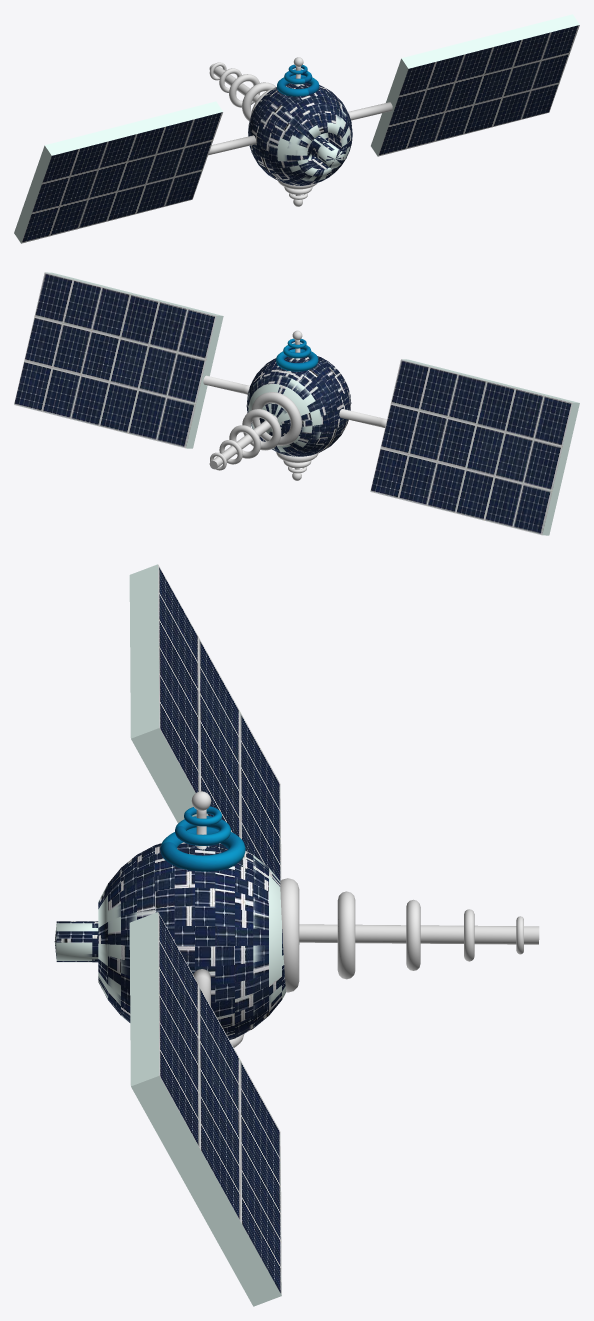
Rendered from spangles.gltf.
3 views of the same model, one above another, from view 1: azimuth 30°, elevation 25°; view 2: azimuth 150°, elevation 25°; view 3: azimuth 270°, elevation 25° (orthographic). The views are drawn at different scales.
Parts seen in each view (by area): view 1: Cube.001, Cube.002, Sphere, Torus.002, Cylinder.001, Torus.008, Cylinder, Torus.009, Cylinder.002; view 2: Cube.001, Cube.002, Sphere, Torus.007, Torus.008, Cylinder.002, Torus.002, Torus.009, Cylinder.001, Cylinder; view 3: Cube.002, Cube.001, Sphere, Cylinder.002, Torus.002, Torus.007, Torus.008, Torus.009, Torus.001.
Part boxes in pixels (x1,y1,x2,y2): Cube.001: (14, 101, 222, 243); Cube.002: (371, 14, 579, 156); Sphere: (248, 83, 352, 185); Torus.002: (277, 75, 319, 96); Cylinder.001: (208, 135, 255, 155); Torus.008: (242, 82, 275, 121); Cylinder: (348, 102, 392, 120); Torus.009: (229, 74, 260, 107); Cylinder.002: (209, 63, 259, 102); Cube.001: (370, 359, 579, 535); Cube.002: (14, 272, 223, 448); Sphere: (246, 356, 351, 456); Torus.007: (251, 392, 301, 445); Torus.008: (242, 409, 281, 450); Cylinder.002: (209, 416, 277, 469); Torus.002: (276, 349, 318, 371); Torus.009: (229, 425, 260, 458); Cylinder.001: (339, 409, 386, 427); Cylinder: (203, 375, 249, 394); Cube.002: (129, 912, 281, 1306); Cube.001: (129, 564, 281, 881); Sphere: (54, 842, 299, 1039); Cylinder.002: (299, 924, 539, 944); Torus.002: (160, 827, 245, 871); Torus.007: (280, 878, 299, 992); Torus.008: (337, 891, 355, 979); Torus.009: (406, 899, 420, 970); Torus.001: (175, 816, 230, 845).
Bounding box in the file's own units: 16.82 × 4.53 × 6.68.
20 materials, 5 textured.
